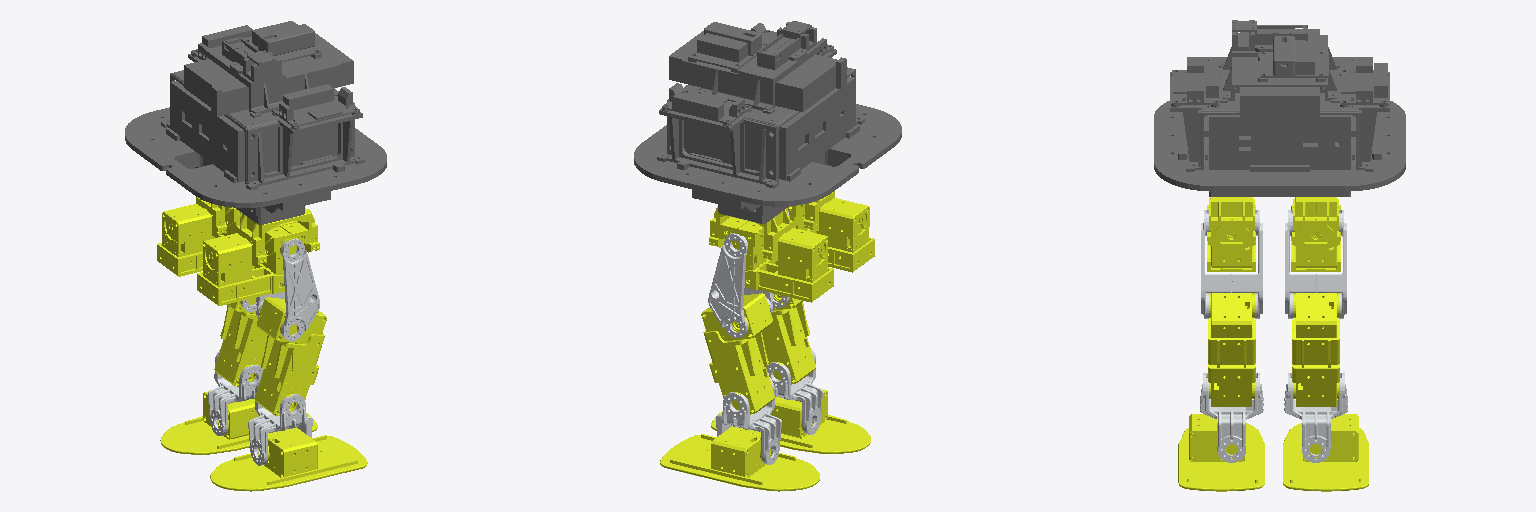
The robot description file, URDF, robot "exhx5_w_b_16":
<?xml version="1.0" encoding="utf-8"?>
<!-- This URDF was automatically created by SolidWorks to URDF Exporter! Originally created by [author] ([email redacted]) 
     Commit Version: 1.5.1-0-g916b5db  Build Version: 1.5.7152.31018
     For more information, please see http://wiki.ros.org/sw_urdf_exporter -->
<robot
  name="exhx5_w_b_16">
  <link
    name="body_link">
    <inertial>
      <origin
        xyz="0.00043545 0.00025536 0.10071"
        rpy="0 0 0" />
      <mass
        value="1.8238" />
      <inertia
        ixx="0.0025905"
        ixy="-5.6852E-06"
        ixz="-1.3106E-05"
        iyy="0.0024595"
        iyz="-1.261E-06"
        izz="0.0046407" />
    </inertial>
    <visual>
      <origin
        xyz="0 0 0"
        rpy="0 0 0" />
      <geometry>
        <mesh
          filename="../meshes/body_link.STL" />
      </geometry>
      <material
        name="">
        <color
          rgba="0.49804 0.49804 0.49804 1" />
      </material>
    </visual>
    <collision>
      <origin
        xyz="0 0 0"
        rpy="0 0 0" />
      <geometry>
        <mesh
          filename="../meshes/body_link.STL" />
      </geometry>
    </collision>
  </link>

  <link
    name="imu_link">
    <inertial>
      <origin
        xyz="-0.008387 1.336E-17 -0.0069463"
        rpy="0 0 0" />
      <mass
        value="0.0062931" />
      <inertia
        ixx="3.2242E-07"
        ixy="3.3527E-22"
        ixz="-6.9193E-08"
        iyy="9.2229E-07"
        iyz="-8.0392E-22"
        izz="1.1018E-06" />
    </inertial>
    <visual>
      <origin
        xyz="0 0 0"
        rpy="0 0 0" />
      <geometry>
        <mesh
          filename="../meshes/imu_link.STL" />
      </geometry>
      <material
        name="">
        <color
          rgba="0.79216 0.81961 0.93333 1" />
      </material>
    </visual>
    <collision>
      <origin
        xyz="0 0 0"
        rpy="0 0 0" />
      <geometry>
        <mesh
          filename="../meshes/imu_link.STL" />
      </geometry>
    </collision>
  </link>
  <joint
    name="imu"
    type="fixed">
    <origin
      xyz="0 0 0.0492"
      rpy="0 0 0" />
    <parent
      link="body_link" />
    <child
      link="imu_link" />
    <axis
      xyz="0 0 0" />
    <limit
      lower="-3.14"
      upper="3.14"
      effort="4"
      velocity="4" />
  </joint>
  <link
    name="l_hip_g_link">
    <inertial>
      <origin
        xyz="-0.0043797 -8.6604E-08 0.011813"
        rpy="0 0 0" />
      <mass
        value="0.061008" />
      <inertia
        ixx="1.167E-05"
        ixy="7.1767E-11"
        ixz="9.1442E-09"
        iyy="2.2342E-05"
        iyz="2.5177E-11"
        izz="2.4892E-05" />
    </inertial>
    <visual>
      <origin
        xyz="0 0 0"
        rpy="0 0 0" />
      <geometry>
        <mesh
          filename="../meshes/l_hip_g_link.STL" />
      </geometry>
      <material
        name="">
        <color
          rgba="0.9451 1 0.18431 1" />
      </material>
    </visual>
    <collision>
      <origin
        xyz="0 0 0"
        rpy="0 0 0" />
      <geometry>
        <mesh
          filename="../meshes/l_hip_g_link.STL" />
      </geometry>
    </collision>
  </link>
  <joint
    name="l_hip_g"
    type="fixed">
    <origin
      xyz="-.003 .030 0"
      rpy="0 0 0" />
    <parent
      link="body_link" />
    <child
      link="l_hip_g_link" />
    <axis
      xyz="0 0 0" />
  </joint>
  <link
    name="l_hip_roll_link">
    <inertial>
      <origin
        xyz="0.013831 0.00033457 0.025453"
        rpy="0 0 0" />
      <mass
        value="0.2969" />
      <inertia
        ixx="7.8136E-05"
        ixy="7.265E-07"
        ixz="-6.9809E-08"
        iyy="9.2183E-05"
        iyz="-5.6881E-11"
        izz="7.1034E-05" />
    </inertial>
    <visual>
      <origin
        xyz="0 0 0"
        rpy="0 0 0" />
      <geometry>
        <mesh
          filename="../meshes/l_hip_roll_link.STL" />
      </geometry>
      <material
        name="">
        <color
          rgba="0.9451 1 0.18431 1" />
      </material>
    </visual>
    <collision>
      <origin
        xyz="0 0 0"
        rpy="0 0 0" />
      <geometry>
        <mesh
          filename="../meshes/l_hip_roll_link.STL" />
      </geometry>
    </collision>
  </link>
  <joint
    name="l_hip_roll"
    type="revolute">
    <origin
      xyz="0 0 0"
      rpy="3.1416 1.5708 0" />
    <parent
      link="l_hip_g_link" />
    <child
      link="l_hip_roll_link" />
    <axis
      xyz="0 0 1" />
    <limit
      lower="-3.14"
      upper="3.14"
      effort="4"
      velocity="4" />
  </joint>
  <link
    name="l_hip_pitch_link">
    <inertial>
      <origin
        xyz="0.041225 -0.007321 -5.0713E-08"
        rpy="0 0 0" />
      <mass
        value="0.051592" />
      <inertia
        ixx="2.7959E-05"
        ixy="2.0752E-06"
        ixz="-8.0934E-11"
        iyy="4.8156E-05"
        iyz="3.6317E-11"
        izz="2.9604E-05" />
    </inertial>
    <visual>
      <origin
        xyz="0 0 0"
        rpy="0 0 0" />
      <geometry>
        <mesh
          filename="../meshes/l_hip_pitch_link.STL" />
      </geometry>
      <material
        name="">
        <color
          rgba="0.89804 0.91765 0.92941 1" />
      </material>
    </visual>
    <collision>
      <origin
        xyz="0 0 0"
        rpy="0 0 0" />
      <geometry>
        <mesh
          filename="../meshes/l_hip_pitch_link.STL" />
      </geometry>
    </collision>
  </link>
  <joint
    name="l_hip_pitch"
    type="revolute">
    <origin
      xyz="0 0 0"
      rpy="1.5708 0 0" />
    <parent
      link="l_hip_roll_link" />
    <child
      link="l_hip_pitch_link" />
    <axis
      xyz="0 0 1" />
    <limit
      lower="-3.14"
      upper="3.14"
      effort="4"
      velocity="4" />
  </joint>
  <link
    name="l_knee_link">
    <inertial>
      <origin
        xyz="0.033756 -0.0084189 -6.6115E-09"
        rpy="0 0 0" />
      <mass
        value="0.28878" />
      <inertia
        ixx="6.6724E-05"
        ixy="7.5004E-07"
        ixz="-8.4578E-07"
        iyy="6.5699E-05"
        iyz="4.1085E-07"
        izz="7.0381E-05" />
    </inertial>
    <visual>
      <origin
        xyz="0 0 0"
        rpy="0 0 0" />
      <geometry>
        <mesh
          filename="../meshes/l_knee_link.STL" />
      </geometry>
      <material
        name="">
        <color
          rgba="0.9451 1 0.18431 1" />
      </material>
    </visual>
    <collision>
      <origin
        xyz="0 0 0"
        rpy="0 0 0" />
      <geometry>
        <mesh
          filename="../meshes/l_knee_link.STL" />
      </geometry>
    </collision>
  </link>
  <joint
    name="l_knee"
    type="revolute">
    <origin
      xyz="0.075954 0 0"
      rpy="0 0 0" />
    <parent
      link="l_hip_pitch_link" />
    <child
      link="l_knee_link" />
    <axis
      xyz="0 0 1" />
    <limit
      lower="-3.14"
      upper="3.14"
      effort="4"
      velocity="4" />
  </joint>
  <link
    name="l_ank_pitch_link">
    <inertial>
      <origin
        xyz="0.022786 -7.3909E-09 -7.1981E-06"
        rpy="0 0 0" />
      <mass
        value="0.044772" />
      <inertia
        ixx="1.777E-05"
        ixy="8.555E-14"
        ixz="-3.3713E-09"
        iyy="1.7119E-05"
        iyz="1.7593E-11"
        izz="1.8661E-05" />
    </inertial>
    <visual>
      <origin
        xyz="0 0 0"
        rpy="0 0 0" />
      <geometry>
        <mesh
          filename="../meshes/l_ank_pitch_link.STL" />
      </geometry>
      <material
        name="">
        <color
          rgba="0.89804 0.91765 0.92941 1" />
      </material>
    </visual>
    <collision>
      <origin
        xyz="0 0 0"
        rpy="0 0 0" />
      <geometry>
        <mesh
          filename="../meshes/l_ank_pitch_link.STL" />
      </geometry>
    </collision>
  </link>
  <joint
    name="l_ank_pitch"
    type="revolute">
    <origin
      xyz="0.074602 0 0"
      rpy="3.1416 0 0" />
    <parent
      link="l_knee_link" />
    <child
      link="l_ank_pitch_link" />
    <axis
      xyz="0 0 1" />
    <limit
      lower="-3.14"
      upper="3.14"
      effort="4"
      velocity="4" />
  </joint>
  <link
    name="l_ank_roll_link">
    <inertial>
      <origin
        xyz="0.0047069 0.010728 0.0015299"
        rpy="0 0 0" />
      <mass
        value="0.16774" />
      <inertia
        ixx="0.00012039"
        ixy="-3.7428E-09"
        ixz="4.4069E-08"
        iyy="8.7735E-05"
        iyz="7.0469E-07"
        izz="4.7866E-05" />
    </inertial>
    <visual>
      <origin
        xyz="0 0 0"
        rpy="0 0 0" />
      <geometry>
        <mesh
          filename="../meshes/l_ank_roll_link.STL" />
      </geometry>
      <material
        name="">
        <color
          rgba="0.9451 1 0.18431 1" />
      </material>
    </visual>
    <collision>
      <origin
        xyz="0 0 0"
        rpy="0 0 0" />
      <geometry>
        <mesh
          filename="../meshes/l_ank_roll_link.STL" />
      </geometry>
    </collision>
  </link>
  <joint
    name="l_ank_roll"
    type="revolute">
    <origin
      xyz="0.0465 0 0"
      rpy="-1.5708 0 0" />
    <parent
      link="l_ank_pitch_link" />
    <child
      link="l_ank_roll_link" />
    <axis
      xyz="0 0 1" />
    <limit
      lower="-3.14"
      upper="3.14"
      effort="4"
      velocity="4" />
  </joint>
  <link
    name="r_hip_g_link">
    <inertial>
      <origin
        xyz="-0.0043797 -8.6604E-08 0.011813"
        rpy="0 0 0" />
      <mass
        value="0.061008" />
      <inertia
        ixx="1.167E-05"
        ixy="7.1767E-11"
        ixz="9.1442E-09"
        iyy="2.2342E-05"
        iyz="2.5177E-11"
        izz="2.4892E-05" />
    </inertial>
    <visual>
      <origin
        xyz="0 0 0"
        rpy="0 0 0" />
      <geometry>
        <mesh
          filename="../meshes/r_hip_g_link.STL" />
      </geometry>
      <material
        name="">
        <color
          rgba="0.9451 1 0.18431 1" />
      </material>
    </visual>
    <collision>
      <origin
        xyz="0 0 0"
        rpy="0 0 0" />
      <geometry>
        <mesh
          filename="../meshes/r_hip_g_link.STL" />
      </geometry>
    </collision>
  </link>
  <joint
    name="r_hip_g"
    type="fixed">
    <origin
      xyz="-.003 -.040 0"
      rpy="0 0 0" />
    <parent
      link="body_link" />
    <child
      link="r_hip_g_link" />
    <axis
      xyz="0 0 0" />
  </joint>
  <link
    name="r_hip_roll_link">
    <inertial>
      <origin
        xyz="0.013831 0.00033457 0.025453"
        rpy="0 0 0" />
      <mass
        value="0.2969" />
      <inertia
        ixx="7.8136E-05"
        ixy="7.265E-07"
        ixz="-6.9809E-08"
        iyy="9.2183E-05"
        iyz="-5.6881E-11"
        izz="7.1034E-05" />
    </inertial>
    <visual>
      <origin
        xyz="0 0 0"
        rpy="0 0 0" />
      <geometry>
        <mesh
          filename="../meshes/r_hip_roll_link.STL" />
      </geometry>
      <material
        name="">
        <color
          rgba="0.9451 1 0.18431 1" />
      </material>
    </visual>
    <collision>
      <origin
        xyz="0 0 0"
        rpy="0 0 0" />
      <geometry>
        <mesh
          filename="../meshes/r_hip_roll_link.STL" />
      </geometry>
    </collision>
  </link>
  <joint
    name="r_hip_roll"
    type="revolute">
    <origin
      xyz="0 0 0"
      rpy="3.1416 1.5708 0" />
    <parent
      link="r_hip_g_link" />
    <child
      link="r_hip_roll_link" />
    <axis
      xyz="0 0 1" />
    <limit
      lower="-3.14"
      upper="3.14"
      effort="4"
      velocity="4" />
  </joint>
  <link
    name="r_hip_pitch_link">
    <inertial>
      <origin
        xyz="0.041225 0.007321 5.0713E-08"
        rpy="0 0 0" />
      <mass
        value="0.051592" />
      <inertia
        ixx="2.7959E-05"
        ixy="-2.0752E-06"
        ixz="8.0934E-11"
        iyy="4.8156E-05"
        iyz="3.6317E-11"
        izz="2.9604E-05" />
    </inertial>
    <visual>
      <origin
        xyz="0 0 0"
        rpy="0 0 0" />
      <geometry>
        <mesh
          filename="../meshes/r_hip_pitch_link.STL" />
      </geometry>
      <material
        name="">
        <color
          rgba="0.89804 0.91765 0.92941 1" />
      </material>
    </visual>
    <collision>
      <origin
        xyz="0 0 0"
        rpy="0 0 0" />
      <geometry>
        <mesh
          filename="../meshes/r_hip_pitch_link.STL" />
      </geometry>
    </collision>
  </link>
  <joint
    name="r_hip_pitch"
    type="revolute">
    <origin
      xyz="0 0 0"
      rpy="-1.5708 0 0" />
    <parent
      link="r_hip_roll_link" />
    <child
      link="r_hip_pitch_link" />
    <axis
      xyz="0 0 1" />
    <limit
      lower="-3.14"
      upper="3.14"
      effort="4"
      velocity="4" />
  </joint>
  <link
    name="r_knee_link">
    <inertial>
      <origin
        xyz="0.033757 0.0084176 6.6115E-09"
        rpy="0 0 0" />
      <mass
        value="0.28878" />
      <inertia
        ixx="6.6724E-05"
        ixy="-7.5008E-07"
        ixz="8.458E-07"
        iyy="6.5699E-05"
        iyz="4.1081E-07"
        izz="7.0381E-05" />
    </inertial>
    <visual>
      <origin
        xyz="0 0 0"
        rpy="0 0 0" />
      <geometry>
        <mesh
          filename="../meshes/r_knee_link.STL" />
      </geometry>
      <material
        name="">
        <color
          rgba="0.9451 1 0.18431 1" />
      </material>
    </visual>
    <collision>
      <origin
        xyz="0 0 0"
        rpy="0 0 0" />
      <geometry>
        <mesh
          filename="../meshes/r_knee_link.STL" />
      </geometry>
    </collision>
  </link>
  <joint
    name="r_knee"
    type="revolute">
    <origin
      xyz="0.075954 0 0"
      rpy="0 0 0" />
    <parent
      link="r_hip_pitch_link" />
    <child
      link="r_knee_link" />
    <axis
      xyz="0 0 1" />
    <limit
      lower="-3.14"
      upper="3.14"
      effort="4"
      velocity="4" />
  </joint>
  <link
    name="r_ank_pitch_link">
    <inertial>
      <origin
        xyz="0.025786 -7.3887E-09 -7.1981E-06"
        rpy="0 0 0" />
      <mass
        value="0.044772" />
      <inertia
        ixx="1.777E-05"
        ixy="8.5434E-14"
        ixz="-3.3713E-09"
        iyy="1.7119E-05"
        iyz="1.7592E-11"
        izz="1.8661E-05" />
    </inertial>
    <visual>
      <origin
        xyz="0 0 0"
        rpy="0 0 0" />
      <geometry>
        <mesh
          filename="../meshes/r_ank_pitch_link.STL" />
      </geometry>
      <material
        name="">
        <color
          rgba="0.89804 0.91765 0.92941 1" />
      </material>
    </visual>
    <collision>
      <origin
        xyz="0 0 0"
        rpy="0 0 0" />
      <geometry>
        <mesh
          filename="../meshes/r_ank_pitch_link.STL" />
      </geometry>
    </collision>
  </link>
  <joint
    name="r_ank_pitch"
    type="revolute">
    <origin
      xyz="0.071602 0 0"
      rpy="3.1416 0 0" />
    <parent
      link="r_knee_link" />
    <child
      link="r_ank_pitch_link" />
    <axis
      xyz="0 0 1" />
    <limit
      lower="-3.14"
      upper="3.14"
      effort="4"
      velocity="4" />
  </joint>
  <link
    name="r_ank_roll_link">
    <inertial>
      <origin
        xyz="0.0077069 -0.010728 0.0015299"
        rpy="0 0 0" />
      <mass
        value="0.16774" />
      <inertia
        ixx="0.00012039"
        ixy="3.743E-09"
        ixz="4.407E-08"
        iyy="8.7735E-05"
        iyz="-7.0467E-07"
        izz="4.7866E-05" />
    </inertial>
    <visual>
      <origin
        xyz="0 0 0"
        rpy="0 0 0" />
      <geometry>
        <mesh
          filename="../meshes/r_ank_roll_link.STL" />
      </geometry>
      <material
        name="">
        <color
          rgba="0.9451 1 0.18431 1" />
      </material>
    </visual>
    <collision>
      <origin
        xyz="0 0 0"
        rpy="0 0 0" />
      <geometry>
        <mesh
          filename="../meshes/r_ank_roll_link.STL" />
      </geometry>
    </collision>
  </link>
  <joint
    name="r_ank_roll"
    type="revolute">
    <origin
      xyz="0.0465 0 0"
      rpy="1.5708 0 0" />
    <parent
      link="r_ank_pitch_link" />
    <child
      link="r_ank_roll_link" />
    <axis
      xyz="0 0 1" />
    <limit
      lower="-3.14"
      upper="3.14"
      effort="4"
      velocity="4" />
  </joint>
  <transmission name="r_hip_roll_tran">
    <type>transmission_interface/SimpleTransmission</type>
    <joint name="r_hip_roll">
      <hardwareInterface>hardware_interface/EffortJointInterface</hardwareInterface>
    </joint>
    <actuator name="r_hip_roll_motor">
      <hardwareInterface>hardware_interface/EffortJointInterface</hardwareInterface>
      <mechanicalReduction>1</mechanicalReduction>
    </actuator>
  </transmission>
  <transmission name="r_hip_pitch_tran">
    <type>transmission_interface/SimpleTransmission</type>
    <joint name="r_hip_pitch">
      <hardwareInterface>hardware_interface/EffortJointInterface</hardwareInterface>
    </joint>
    <actuator name="r_hip_pitch_motor">
      <hardwareInterface>hardware_interface/EffortJointInterface</hardwareInterface>
      <mechanicalReduction>1</mechanicalReduction>
    </actuator>
  </transmission>
  <transmission name="r_knee_tran">
    <type>transmission_interface/SimpleTransmission</type>
    <joint name="r_knee">
      <hardwareInterface>hardware_interface/EffortJointInterface</hardwareInterface>
    </joint>
    <actuator name="r_knee_motor">
      <hardwareInterface>hardware_interface/EffortJointInterface</hardwareInterface>
      <mechanicalReduction>1</mechanicalReduction>
    </actuator>
  </transmission>
  <transmission name="r_ank_pitch_tran">
    <type>transmission_interface/SimpleTransmission</type>
    <joint name="r_ank_pitch">
      <hardwareInterface>hardware_interface/EffortJointInterface</hardwareInterface>
    </joint>
    <actuator name="r_ank_pitch_motor">
      <hardwareInterface>hardware_interface/EffortJointInterface</hardwareInterface>
      <mechanicalReduction>1</mechanicalReduction>
    </actuator>
  </transmission>
  <transmission name="r_ank_roll_tran">
    <type>transmission_interface/SimpleTransmission</type>
    <joint name="r_ank_roll">
      <hardwareInterface>hardware_interface/EffortJointInterface</hardwareInterface>
    </joint>
    <actuator name="r_ank_roll_motor">
      <hardwareInterface>hardware_interface/EffortJointInterface</hardwareInterface>
      <mechanicalReduction>1</mechanicalReduction>
    </actuator>
  </transmission>
  <transmission name="l_hip_roll_tran">
    <type>transmission_interface/SimpleTransmission</type>
    <joint name="l_hip_roll">
      <hardwareInterface>hardware_interface/EffortJointInterface</hardwareInterface>
    </joint>
    <actuator name="l_hip_roll_motor">
      <hardwareInterface>hardware_interface/EffortJointInterface</hardwareInterface>
      <mechanicalReduction>1</mechanicalReduction>
    </actuator>
  </transmission>
  <transmission name="l_hip_pitch_tran">
    <type>transmission_interface/SimpleTransmission</type>
    <joint name="l_hip_pitch">
      <hardwareInterface>hardware_interface/EffortJointInterface</hardwareInterface>
    </joint>
    <actuator name="l_hip_pitch_motor">
      <hardwareInterface>hardware_interface/EffortJointInterface</hardwareInterface>
      <mechanicalReduction>1</mechanicalReduction>
    </actuator>
  </transmission>
  <transmission name="l_knee_tran">
    <type>transmission_interface/SimpleTransmission</type>
    <joint name="l_knee">
      <hardwareInterface>hardware_interface/EffortJointInterface</hardwareInterface>
    </joint>
    <actuator name="l_knee_motor">
      <hardwareInterface>hardware_interface/EffortJointInterface</hardwareInterface>
      <mechanicalReduction>1</mechanicalReduction>
    </actuator>
  </transmission>
  <transmission name="l_ank_pitch_tran">
    <type>transmission_interface/SimpleTransmission</type>
    <joint name="l_ank_pitch">
      <hardwareInterface>hardware_interface/EffortJointInterface</hardwareInterface>
    </joint>
    <actuator name="l_ank_pitch_motor">
      <hardwareInterface>hardware_interface/EffortJointInterface</hardwareInterface>
      <mechanicalReduction>1</mechanicalReduction>
    </actuator>
  </transmission>
  <transmission name="l_ank_roll_tran">
    <type>transmission_interface/SimpleTransmission</type>
    <joint name="l_ank_roll">
      <hardwareInterface>hardware_interface/EffortJointInterface</hardwareInterface>
    </joint>
    <actuator name="l_ank_roll_motor">
      <hardwareInterface>hardware_interface/EffortJointInterface</hardwareInterface>
      <mechanicalReduction>1</mechanicalReduction>
    </actuator>
  </transmission>
</robot>

--- Facts derived from the render (not from the file) ---
3 views of the same robot in one strip: view 1: azimuth 30°, elevation 25°; view 2: azimuth 150°, elevation 25°; view 3: azimuth 270°, elevation 25° (orthographic).
Model exhx5_w_b_16 with 14 links and 13 joints (10 revolute, 3 fixed), rooted at body_link, posed every joint at zero.
Visible links, largest first — view 1: body_link, r_ank_roll_link, r_hip_roll_link, r_knee_link, l_hip_roll_link, l_ank_roll_link, r_hip_pitch_link, l_knee_link, r_ank_pitch_link, l_ank_pitch_link, r_hip_g_link, l_hip_g_link; view 2: body_link, l_ank_roll_link, l_hip_roll_link, l_knee_link, r_hip_roll_link, r_ank_roll_link, l_hip_pitch_link, r_knee_link, l_ank_pitch_link, r_ank_pitch_link, l_hip_g_link; view 3: body_link, l_knee_link, r_knee_link, r_ank_roll_link, l_ank_roll_link, l_ank_pitch_link, r_ank_pitch_link, r_hip_pitch_link, l_hip_pitch_link, l_hip_g_link, r_hip_g_link, l_hip_roll_link (+1 smaller).
Link boxes in pixels (<box>): body_link: <box>125,21,386,224</box>; r_ank_roll_link: <box>210,427,367,491</box>; r_hip_roll_link: <box>197,221,308,305</box>; r_knee_link: <box>255,297,326,415</box>; l_hip_roll_link: <box>157,204,241,276</box>; l_ank_roll_link: <box>160,391,317,454</box>; r_hip_pitch_link: <box>256,238,319,341</box>; l_knee_link: <box>214,297,267,386</box>; r_ank_pitch_link: <box>248,379,312,465</box>; l_ank_pitch_link: <box>208,350,263,435</box>; r_hip_g_link: <box>236,208,319,265</box>; l_hip_g_link: <box>196,197,226,235</box>; body_link: <box>634,21,901,223</box>; l_ank_roll_link: <box>660,426,819,491</box>; l_hip_roll_link: <box>720,216,833,302</box>; l_knee_link: <box>701,293,774,414</box>; r_hip_roll_link: <box>788,198,874,272</box>; r_ank_roll_link: <box>711,389,870,453</box>; l_hip_pitch_link: <box>708,233,772,337</box>; r_knee_link: <box>762,293,815,384</box>; l_ank_pitch_link: <box>716,377,781,464</box>; r_ank_pitch_link: <box>766,347,822,434</box>; l_hip_g_link: <box>709,206,793,260</box>; body_link: <box>1154,20,1405,196</box>; l_knee_link: <box>1292,293,1339,406</box>; r_knee_link: <box>1208,293,1255,406</box>; r_ank_roll_link: <box>1178,414,1264,491</box>; l_ank_roll_link: <box>1283,414,1368,491</box>; l_ank_pitch_link: <box>1284,373,1347,462</box>; r_ank_pitch_link: <box>1200,373,1263,462</box>; r_hip_pitch_link: <box>1201,210,1262,318</box>; l_hip_pitch_link: <box>1285,210,1346,318</box>; l_hip_g_link: <box>1291,197,1340,246</box>; r_hip_g_link: <box>1207,197,1255,246</box>; l_hip_roll_link: <box>1291,199,1340,271</box>.
Bounding box of the posed robot: 0.185 × 0.21 × 0.3893 m (x, y, z).
14 mesh visuals loaded from 14 distinct referenced files (14 binary STL).